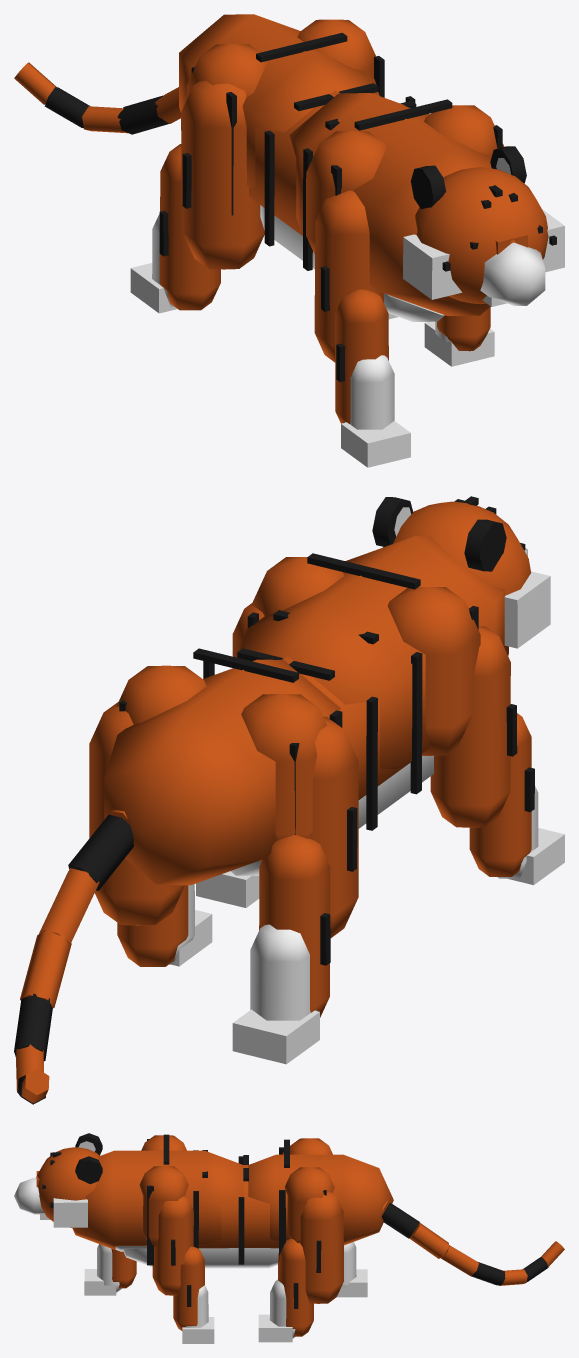
Rendered from tiger.glb.
The picture shows the model from 3 angles, top to bottom: view 1: azimuth 30°, elevation 25°; view 2: azimuth 150°, elevation 25°; view 3: azimuth 270°, elevation 25°; orthographic projection. The views are drawn at different scales.
Visible parts, largest first — view 1: Mesh_Chest, Mesh_RR_Thigh, Mesh_Pelvis, Mesh_Skull, Mesh_FR_Upper, Mesh_RR_Calf, Mesh_ShoulderR, Mesh_FR_Lower, Mesh_MidBody, Mesh_Muzzle, Mesh_FR_LowerWhite, Mesh_HipR (+22 smaller); view 2: Mesh_Pelvis, Mesh_Chest, Mesh_FR_Upper, Mesh_ShoulderR, Mesh_RR_Calf, Mesh_HipR, Mesh_RR_Thigh, Mesh_RL_Thigh, Mesh_RR_CalfWhite, Mesh_Skull, Mesh_FR_Lower, Mesh_RR_Paw (+21 smaller); view 3: Mesh_Chest, Mesh_Pelvis, Mesh_RL_Thigh, Mesh_FL_Upper, Mesh_Skull, Mesh_MidBody, Mesh_RL_Calf, Mesh_ShoulderL, Mesh_HipL, Mesh_BellyWhite, Mesh_FL_Lower, Mesh_CheekL (+25 smaller).
Part boxes in pixels (bbox=[...]): Mesh_Chest: bbox=[289, 93, 491, 315]; Mesh_RR_Thigh: bbox=[181, 81, 264, 269]; Mesh_Pelvis: bbox=[179, 14, 379, 187]; Mesh_Skull: bbox=[415, 167, 548, 304]; Mesh_FR_Upper: bbox=[314, 190, 383, 362]; Mesh_RR_Calf: bbox=[159, 144, 220, 310]; Mesh_ShoulderR: bbox=[306, 131, 386, 254]; Mesh_FR_Lower: bbox=[335, 289, 388, 423]; Mesh_MidBody: bbox=[249, 90, 339, 235]; Mesh_Muzzle: bbox=[480, 242, 545, 305]; Mesh_FR_LowerWhite: bbox=[345, 355, 394, 429]; Mesh_HipR: bbox=[186, 44, 267, 99]; Mesh_Pelvis: bbox=[104, 659, 340, 885]; Mesh_Chest: bbox=[240, 536, 508, 768]; Mesh_FR_Upper: bbox=[430, 626, 510, 827]; Mesh_ShoulderR: bbox=[387, 587, 480, 755]; Mesh_RR_Calf: bbox=[259, 835, 330, 1017]; Mesh_HipR: bbox=[241, 694, 327, 861]; Mesh_RR_Thigh: bbox=[261, 716, 358, 937]; Mesh_RL_Thigh: bbox=[89, 702, 184, 925]; Mesh_RR_CalfWhite: bbox=[250, 924, 316, 1020]; Mesh_Skull: bbox=[383, 501, 531, 595]; Mesh_FR_Lower: bbox=[469, 713, 531, 876]; Mesh_RR_Paw: bbox=[232, 1009, 319, 1064]; Mesh_Chest: bbox=[72, 1150, 243, 1249]; Mesh_Pelvis: bbox=[248, 1154, 393, 1245]; Mesh_RL_Thigh: bbox=[300, 1192, 343, 1303]; Mesh_FL_Upper: bbox=[152, 1196, 193, 1295]; Mesh_Skull: bbox=[36, 1147, 99, 1227]; Mesh_MidBody: bbox=[198, 1165, 278, 1248]; Mesh_RL_Calf: bbox=[278, 1238, 313, 1336]; Mesh_ShoulderL: bbox=[139, 1166, 188, 1252]; Mesh_HipL: bbox=[284, 1167, 334, 1242]; Mesh_BellyWhite: bbox=[123, 1248, 278, 1268]; Mesh_FL_Lower: bbox=[173, 1246, 204, 1330]; Mesh_CheekL: bbox=[53, 1198, 87, 1227].
Bounding box in the file's own units: 0.635 × 0.8301 × 2.42.
